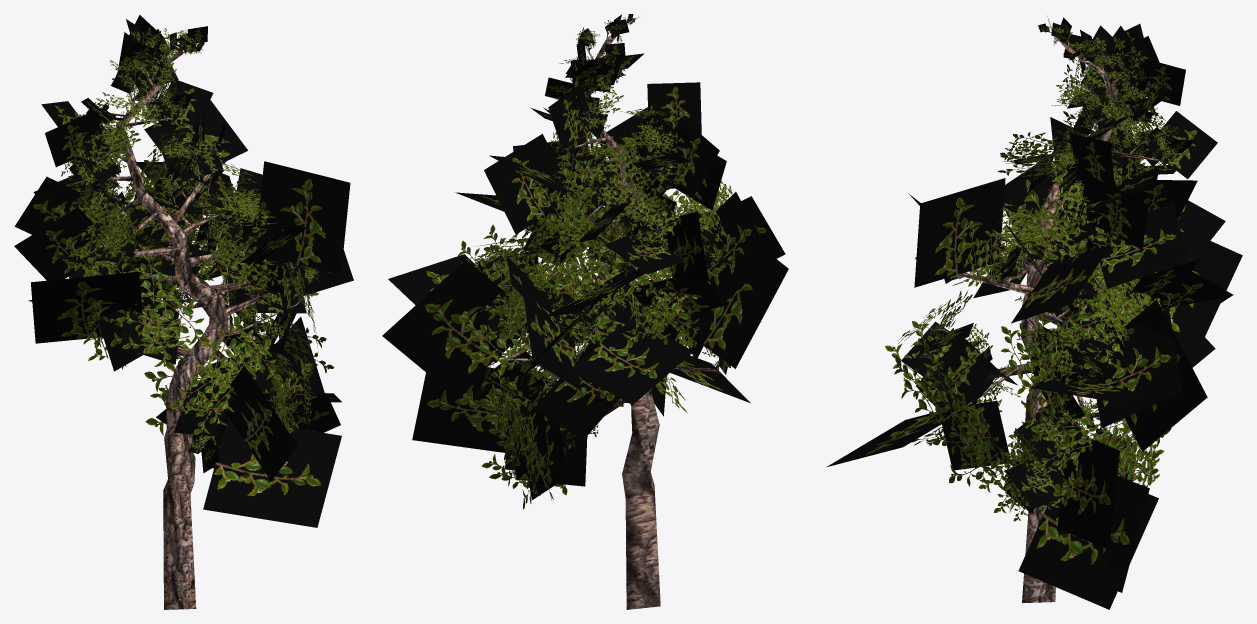
Rendered from TreeG2.fbx.
The picture shows the model from 3 angles, left to right: view 1: azimuth 30°, elevation 25°; view 2: azimuth 150°, elevation 25°; view 3: azimuth 270°, elevation 25°; orthographic projection. The views are drawn at different scales.
Visible parts, largest first — view 1: TreeG; view 2: TreeG; view 3: TreeG.
Part boxes in pixels (left/top/right/bottom): TreeG: left=14, top=15, right=353, bottom=609; TreeG: left=382, top=14, right=788, bottom=609; TreeG: left=826, top=15, right=1242, bottom=609.
Bounding box in the file's own units: 461 × 718 × 475.
